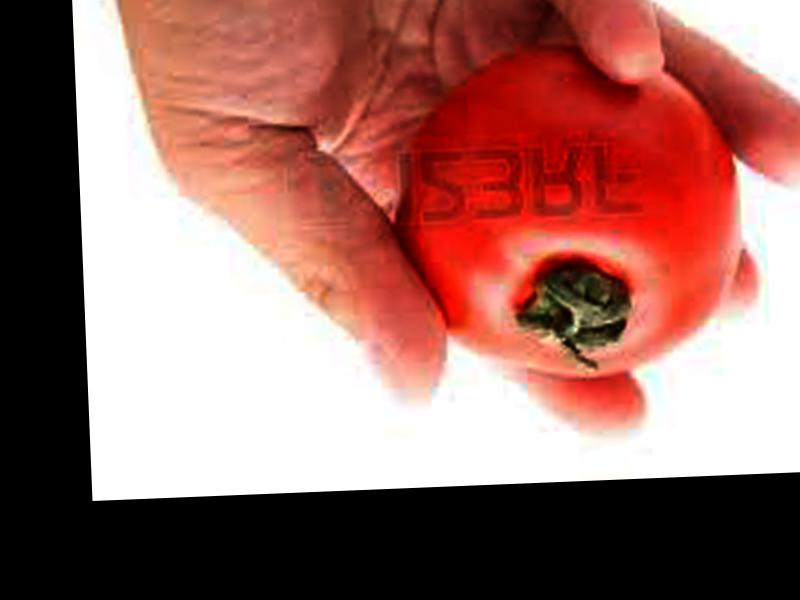Tomato: (392, 39, 747, 384)
